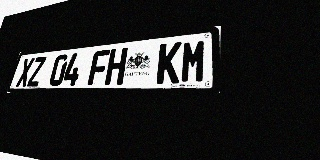0: (48, 54, 69, 86)
4: (62, 52, 84, 86)
F: (87, 49, 110, 85)
H: (104, 47, 128, 85)
K: (156, 42, 182, 84)
M: (180, 39, 207, 83)
X: (15, 58, 35, 87)
Z: (27, 56, 47, 87)
